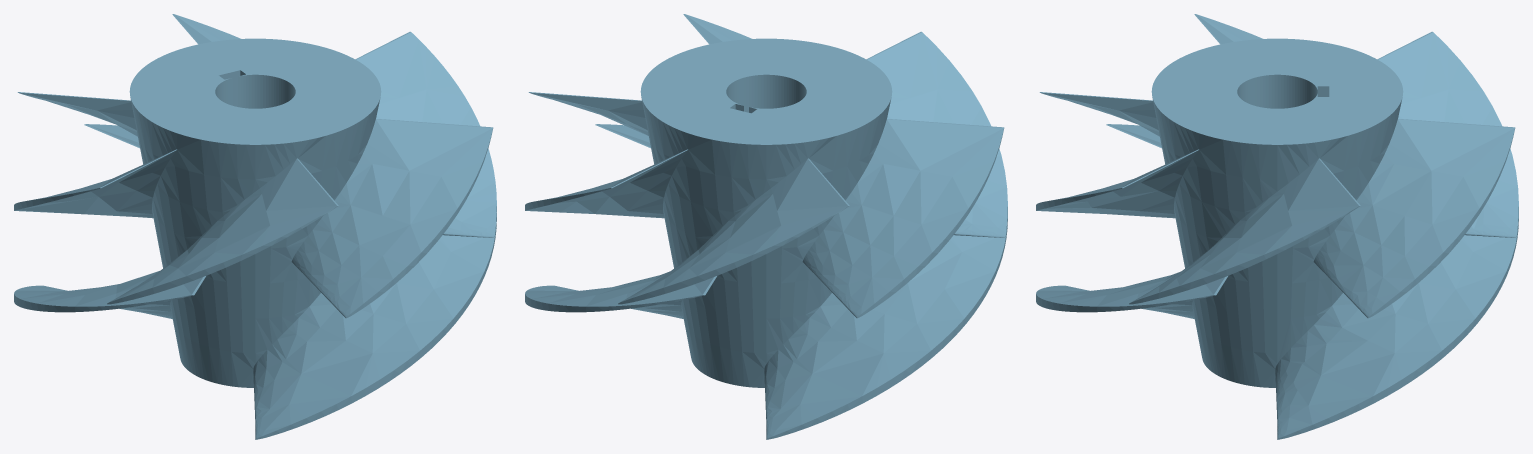
The model's file is t3_tandem_inducer_kimi.glb.
3 views of the same model, side by side, from view 1: azimuth 30°, elevation 25°; view 2: azimuth 150°, elevation 25°; view 3: azimuth 270°, elevation 25° (orthographic).
Parts seen in each view (by area): view 1: TandemInducer_Monolithic; view 2: TandemInducer_Monolithic; view 3: TandemInducer_Monolithic.
Part boxes in pixels (<box>): TandemInducer_Monolithic: <box>14,14,496,439</box>; TandemInducer_Monolithic: <box>525,14,1007,439</box>; TandemInducer_Monolithic: <box>1036,14,1518,439</box>.
Bounding box in the file's own units: 0.096 × 0.058 × 0.096.
